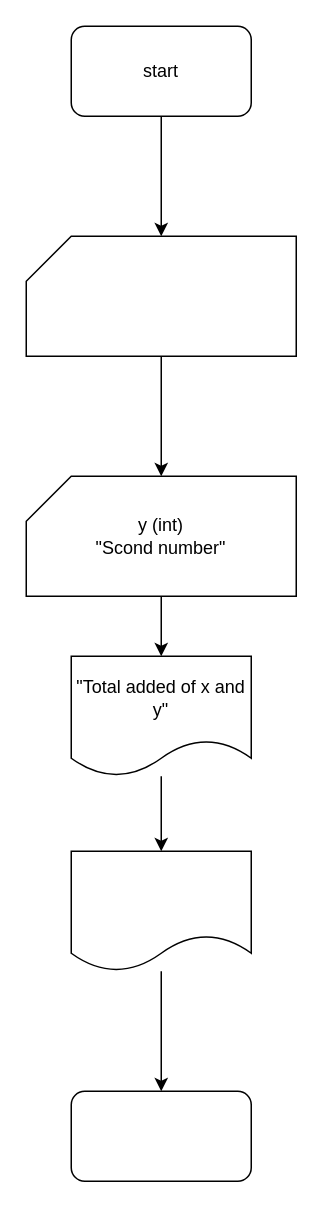
The diagram is 323 pixels wide and 1208 high, and some of its shapes have lost their labels. Here are the shapes that lost their labels. From the top down, the centre of each, then its label:
pixel 160 295: x (int) "First number"
pixel 160 910: "Total multiplied of x and y"
